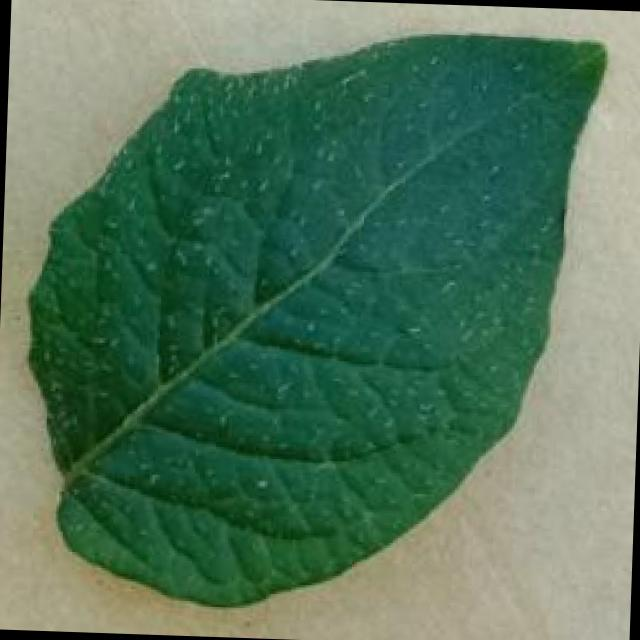Potato_Healthy: (19, 19, 607, 620)
